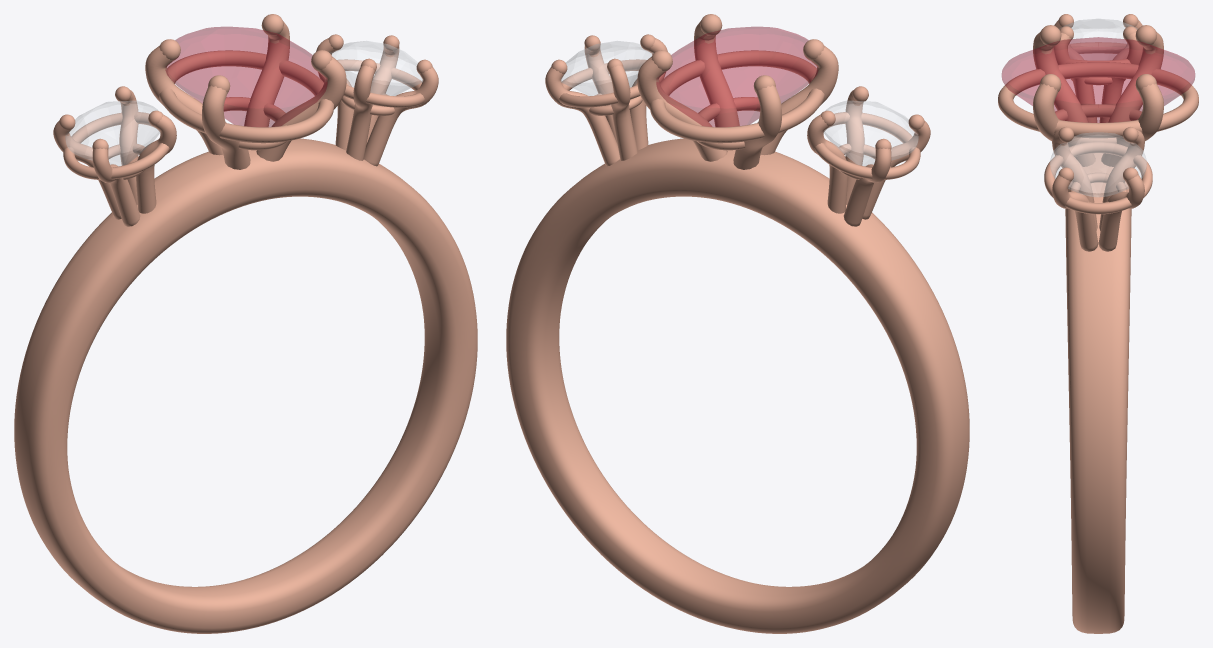
File: Ring_ThreeStone_Preview.glb
The picture shows the model from 3 angles, left to right: view 1: azimuth 30°, elevation 25°; view 2: azimuth 150°, elevation 25°; view 3: azimuth 270°, elevation 25°; orthographic projection. The views are drawn at different scales.
Visible parts, largest first — view 1: Band, Head_Center, PreviewGem_Center, Head_SideR, Head_SideL, PreviewGem_SideR, PreviewGem_SideL; view 2: Band, Head_Center, PreviewGem_Center, Head_SideR, Head_SideL, PreviewGem_SideR, PreviewGem_SideL; view 3: Band, Head_Center, PreviewGem_Center, Head_SideL, PreviewGem_SideL, Head_SideR, PreviewGem_SideR.
Part boxes in pixels (x1,y1,x2,y2): Band: (14, 138, 477, 633); Head_Center: (145, 14, 346, 169); PreviewGem_Center: (165, 27, 327, 126); Head_SideR: (53, 86, 176, 226); Head_SideL: (316, 34, 438, 166); PreviewGem_SideR: (65, 101, 160, 165); PreviewGem_SideL: (330, 41, 423, 95); Band: (506, 138, 969, 633); Head_Center: (637, 14, 838, 169); PreviewGem_Center: (656, 27, 818, 126); Head_SideR: (807, 86, 930, 226); Head_SideL: (545, 34, 667, 166); PreviewGem_SideR: (823, 101, 918, 165); PreviewGem_SideL: (560, 41, 653, 95); Band: (1065, 153, 1131, 633); Head_Center: (998, 25, 1198, 166); PreviewGem_Center: (1002, 37, 1194, 122); Head_SideL: (1044, 127, 1152, 251); PreviewGem_SideL: (1050, 132, 1146, 196); Head_SideR: (1054, 14, 1142, 122); PreviewGem_SideR: (1059, 19, 1137, 60).
Size of the model in its own units: 0.0207 by 0.0256 by 0.00831.
